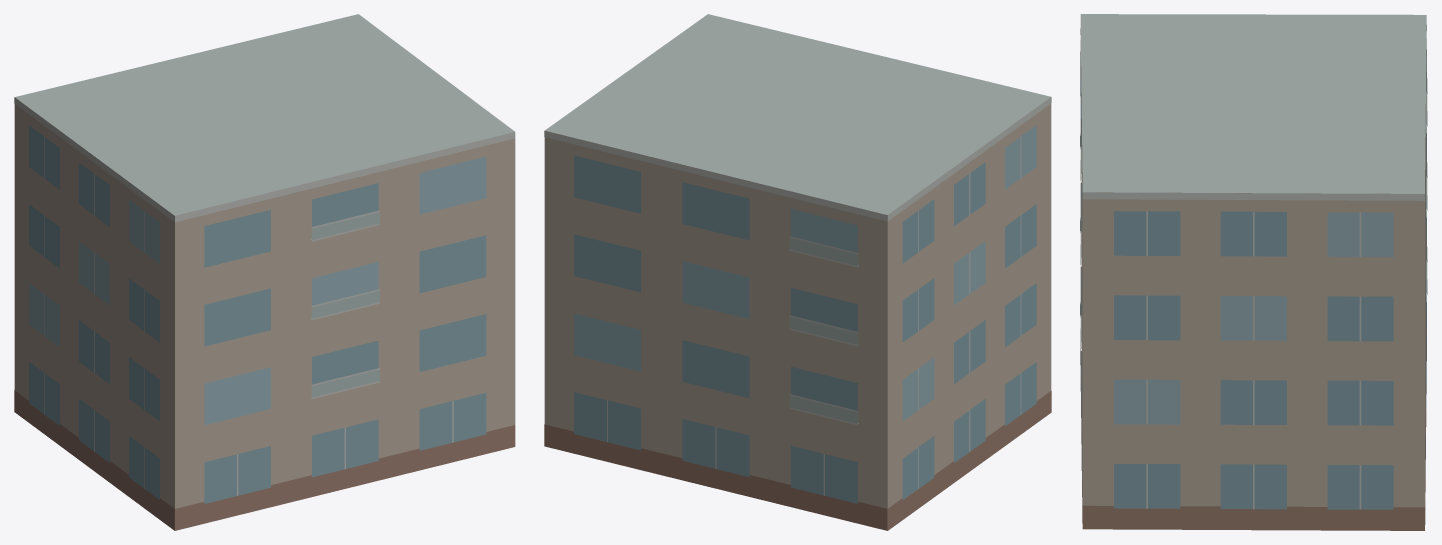
Rendered from survey-upis-32813815.glb.
The picture shows the model from 3 angles, left to right: view 1: azimuth 30°, elevation 25°; view 2: azimuth 150°, elevation 25°; view 3: azimuth 270°, elevation 25°; orthographic projection. The views are drawn at different scales.
Parts seen in each view (by area): view 1: survey-upis-32813815.tmp; view 2: survey-upis-32813815.tmp; view 3: survey-upis-32813815.tmp.
Part boxes in pixels (box(x1,y1,x2,y2)): survey-upis-32813815.tmp: box(14, 14, 515, 530); survey-upis-32813815.tmp: box(544, 14, 1051, 530); survey-upis-32813815.tmp: box(1080, 14, 1427, 530).
Size of the model in its own units: 13.64 by 11.9 by 11.13.
